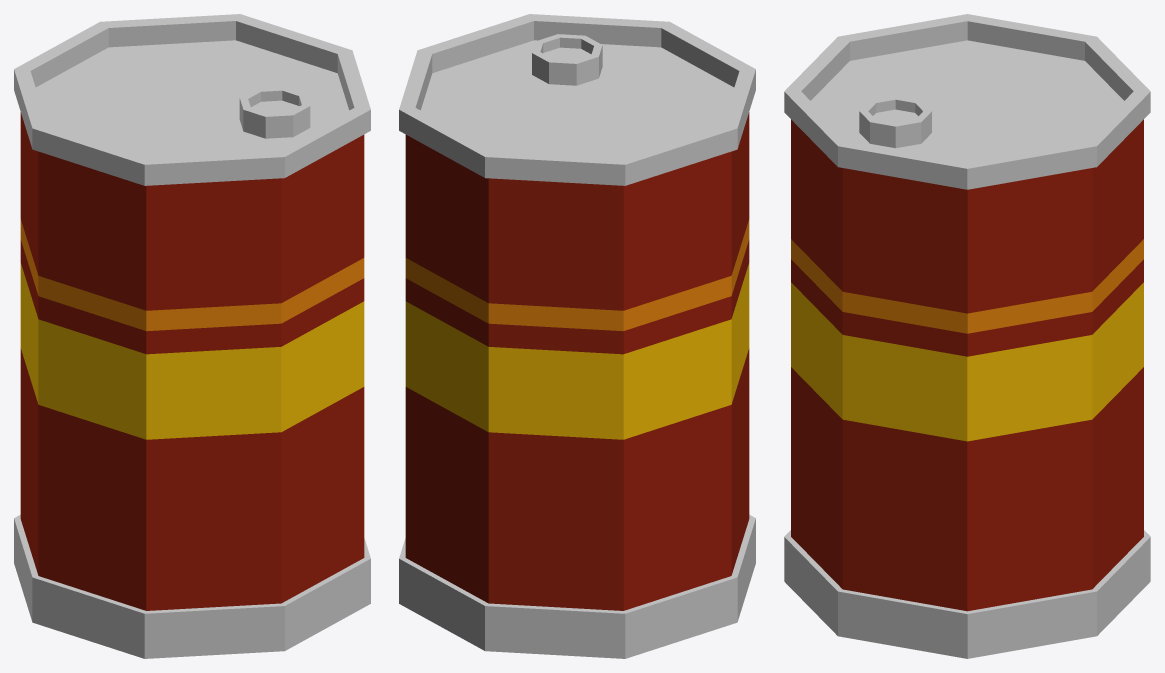
File: ds_oil_drum.glb
3 views of the same model, side by side, from view 1: azimuth 30°, elevation 25°; view 2: azimuth 150°, elevation 25°; view 3: azimuth 270°, elevation 25° (orthographic).
Visible parts, largest first — view 1: Circle002; view 2: Circle002; view 3: Circle002.
Boxes of the visible parts, x1,y1,x2,y2 form: Circle002: [14, 14, 370, 658]; Circle002: [399, 14, 755, 658]; Circle002: [784, 14, 1150, 658].
Bounding box in the file's own units: 0.6279 × 0.9313 × 0.6279.
Materials: 1 (1 with a texture image).
